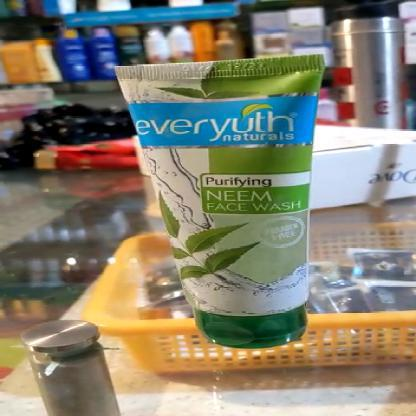EY NATURALS NEEM FACE WASH AY 50G: (126, 60, 322, 344)
